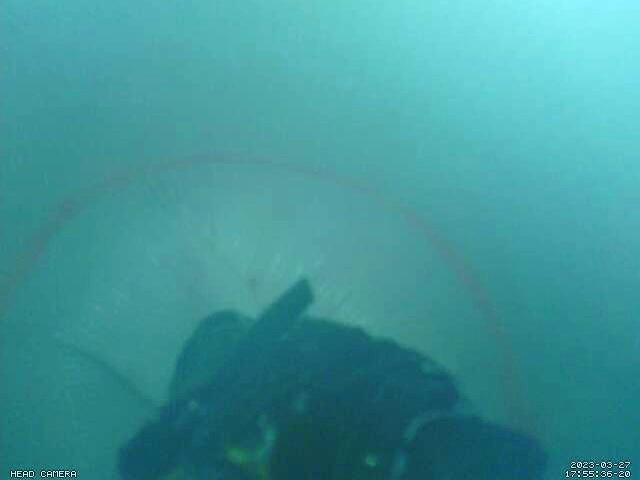head: (0, 153, 516, 480)
